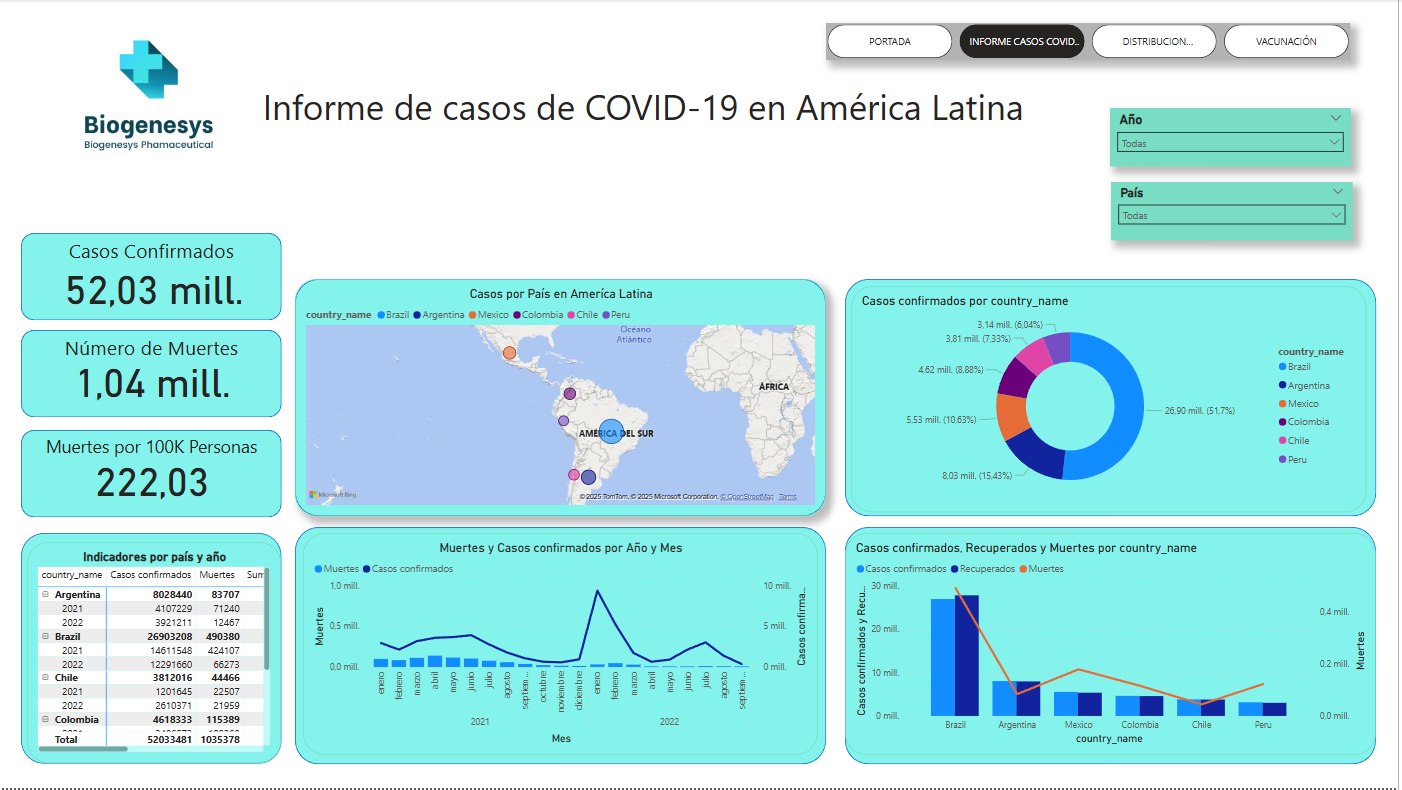

What the dashboard file says about the page in this screenshot:
{"tool":"powerbi","page":{"name":"INFORME CASOS COVID LATAM","canvas":[1920,1080],"ordinal":1},"visuals":[{"type":"image","box":[0,0,450,274],"z":0},{"type":"shape","box":[34.8,320.5,356.8,119.4],"z":1000},{"type":"shape","box":[34.8,453.5,356.8,119.4],"z":2000},{"type":"shape","box":[34.8,589.6,356.8,119.4],"z":3000},{"type":"shape","box":[34.8,731.7,356.8,316],"z":4000},{"type":"textbox","box":[46.9,320.5,332.6,48.4],"z":5000},{"type":"textbox","box":[46.9,453.5,332.6,46.9],"z":6000},{"type":"textbox","box":[46.9,589.6,332.6,45.4],"z":7000},{"type":"card","fields":{"Values":["Medidas.Casos confirmados"]},"box":[52.5,372.3,325.9,58.7],"z":8000},{"type":"card","fields":{"Values":["Medidas.Muertes"]},"box":[66.5,500.4,293.3,59],"z":9000},{"type":"card","fields":{"Values":["Medidas.Muertes cada 100k"]},"box":[66.5,635,293.3,59],"z":10000},{"type":"shape","box":[409.7,384,727.2,325],"z":11000},{"type":"shape","box":[409.7,722.6,727.2,325],"z":12000},{"type":"shape","box":[1162.5,383.8,727.5,325],"z":13000},{"type":"shape","box":[1162.6,722.6,727.2,325],"z":14000},{"type":"map","title":"Casos por País en Ameríca Latina","fields":{"Category":["DatosFinalesFiltrado.country_name"],"Y":["Avg(DatosFinalesFiltrado.latitude)"],"Series":["DatosFinalesFiltrado.country_name"],"X":["Avg(DatosFinalesFiltrado.longitude)"],"Size":["Medidas.Casos confirmados"]},"box":[409.7,384,727.2,325],"z":15000},{"type":"donutChart","title":"Casos confirmados por País","fields":{"Category":["DatosFinalesFiltrado.country_name"],"Y":["Medidas.Casos confirmados"]},"box":[1171.2,392.5,706.2,310],"z":16000},{"type":"lineClusteredColumnComboChart","fields":{"Category":["DatosFinalesFiltrado.date.Variación.Jerarquía de fechas.Año","DatosFinalesFiltrado.date.Variación.Jerarquía de fechas.Mes"],"Y":["Medidas.Muertes"],"Y2":["Medidas.Casos confirmados"]},"box":[420.3,731.7,704.5,303.9],"z":17000},{"type":"lineClusteredColumnComboChart","title":"Casos confirmados, Recuperados y Muertes por País","fields":{"Category":["DatosFinalesFiltrado.country_name"],"Y":["Medidas.Casos confirmados","Medidas.Recuperados"],"Y2":["Medidas.Muertes"]},"box":[1162.6,731.7,727.2,303.9],"z":18000},{"type":"slicer","fields":{"Values":["DatosFinalesFiltrado.date.Variación.Jerarquía de fechas.Año"]},"box":[1525.6,149,329.9,79.8],"z":19000},{"type":"slicer","fields":{"Values":["DatosFinalesFiltrado.country_name"]},"box":[1526.9,251,331.1,80.1],"z":20000},{"type":"textbox","box":[359.8,108.9,1071.9,80.1],"z":21000},{"type":"pivotTable","title":"Indicadores por país y año","fields":{"Values":["Medidas.Poblacion total","Medidas.Casos confirmados","Medidas.Muertes","Medidas.Tasa mortalidad covid-19"],"Rows":["DatosFinalesFiltrado.country_name","DatosFinalesFiltrado.date.Variación.Jerarquía de fechas.Año"]},"box":[42.7,744,348,302.7],"z":22000},{"type":"pageNavigator","box":[1137.2,33.3,718.2,50.5],"z":23000},{"type":"slicer","fields":{"Values":["Parámetro 2.Parámetro"]},"box":[480,228.6,860,100],"z":24000}]}

Visuals, with their boxes in screenshot pixels (x1, y1, x2, y2), scaled from the page's 1920x1080 canvas onto the 1402x790 screenshot:
image: 0 0 329 200
shape: 25 234 286 322
shape: 25 332 286 419
shape: 25 431 286 519
shape: 25 535 286 766
textbox: 34 234 277 270
textbox: 34 332 277 366
textbox: 34 431 277 464
card - Medidas.Casos confirmados: 38 272 276 315
card - Medidas.Muertes: 49 366 263 409
card - Medidas.Muertes cada 100k: 49 464 263 508
shape: 299 281 830 519
shape: 299 529 830 766
shape: 849 281 1380 518
shape: 849 529 1380 766
"Casos por País en Ameríca Latina" map: 299 281 830 519
"Casos confirmados por País" donutChart: 855 287 1371 514
lineClusteredColumnComboChart - DatosFinalesFiltrado.date.Variación.Jerarquía de fechas.Año x DatosFinalesFiltrado.date.Variación.Jerarquía de fechas.Mes: 307 535 821 758
"Casos confirmados, Recuperados y Muertes por País" lineClusteredColumnComboChart: 849 535 1380 758
slicer - DatosFinalesFiltrado.date.Variación.Jerarquía de fechas.Año: 1114 109 1355 167
slicer - DatosFinalesFiltrado.country_name: 1115 184 1357 242
textbox: 263 80 1045 138
"Indicadores por país y año" pivotTable: 31 544 285 766
pageNavigator: 830 24 1355 61
slicer - Parámetro 2.Parámetro: 350 167 978 240
